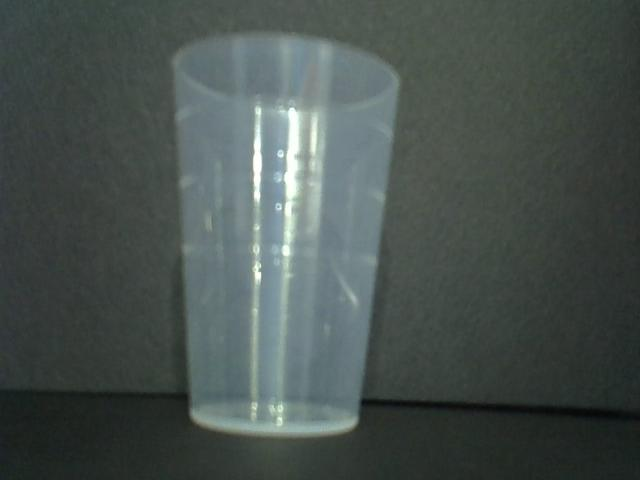cup: (165, 31, 404, 439)
